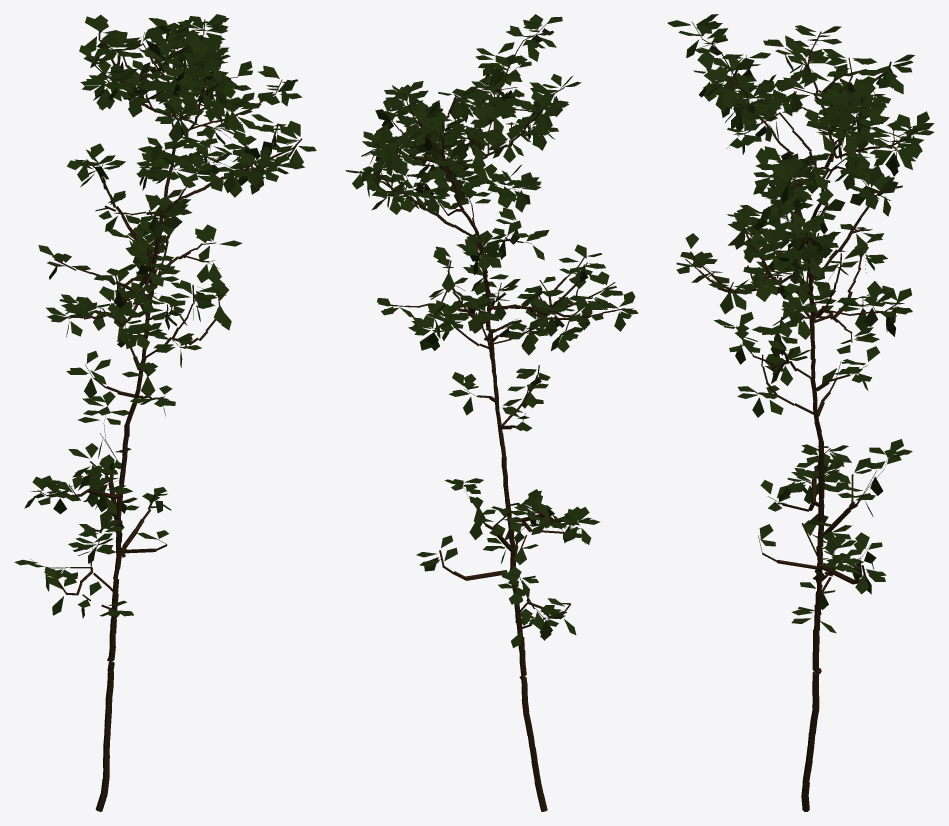
The model's file is tree_361.obj.
3 renders of one model, left to right at view 1: azimuth 30°, elevation 25°; view 2: azimuth 150°, elevation 25°; view 3: azimuth 270°, elevation 25°, orthographic. The views are drawn at different scales.
Visible parts, largest first — view 1: Leaves, TrunkAndBranches; view 2: Leaves, TrunkAndBranches; view 3: Leaves, TrunkAndBranches.
Boxes of the visible parts, left/top/right/bottom form: Leaves: left=14, top=14, right=316, bottom=618; TrunkAndBranches: left=30, top=19, right=302, bottom=811; Leaves: left=345, top=14, right=638, bottom=647; TrunkAndBranches: left=360, top=22, right=624, bottom=811; Leaves: left=667, top=14, right=934, bottom=633; TrunkAndBranches: left=685, top=22, right=917, bottom=811.
Size of the model in its own units: 4 by 10.81 by 3.19.
